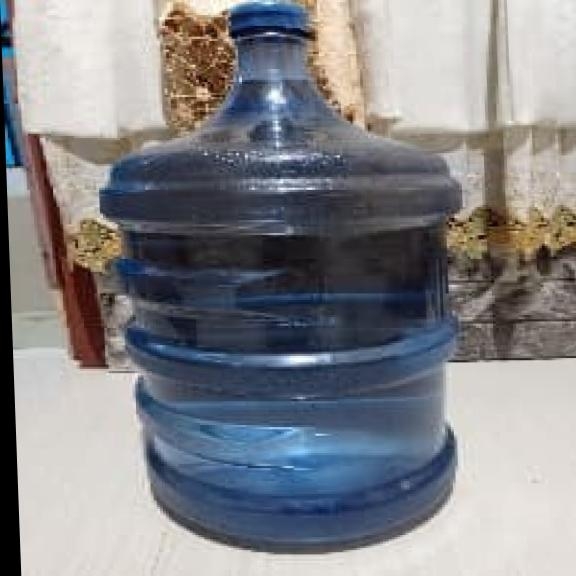Plastik: (97, 10, 478, 548)
